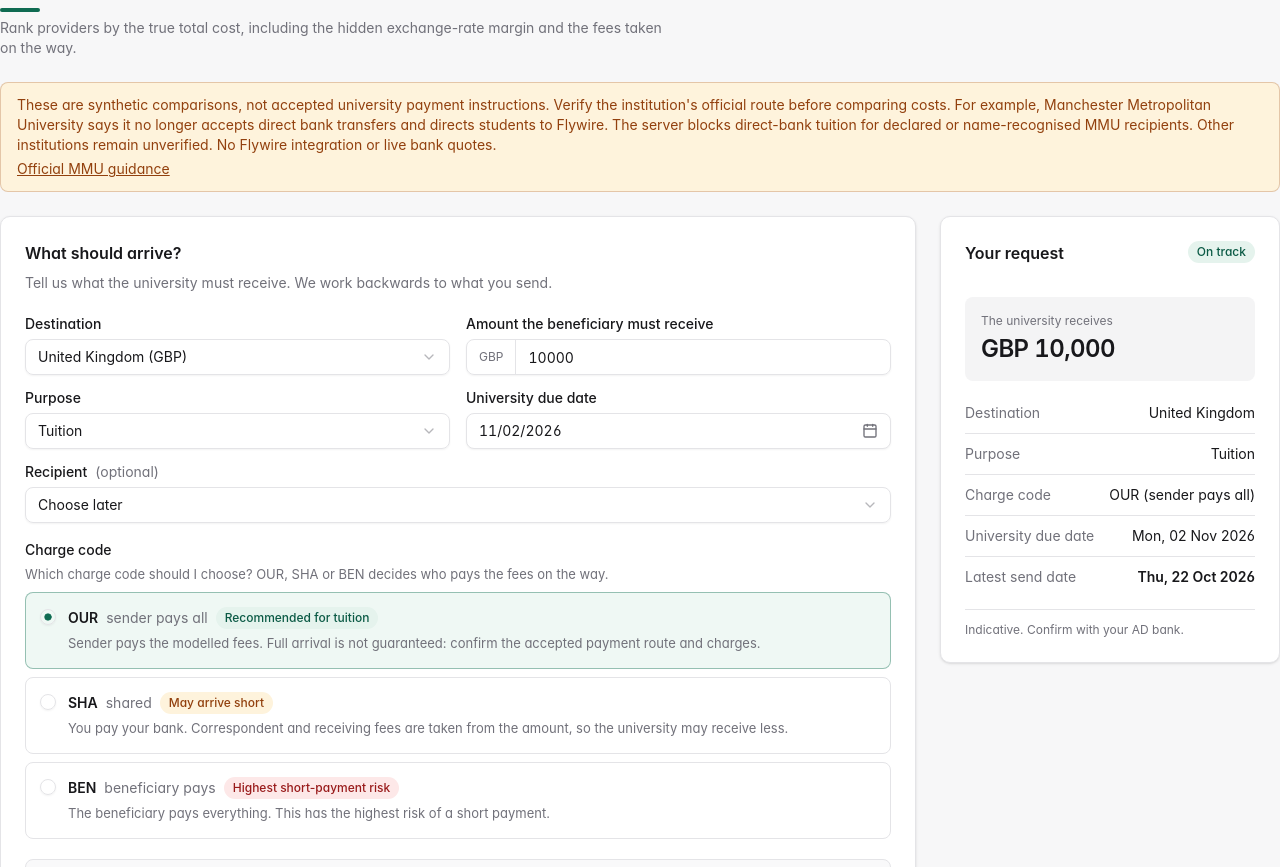
Test: compare screen: the request › chooses the charge code with the cards and sends it
Click the radio button named "BEN" in the row of "Highest short-payment risk". click: (48, 787)
box: x1=40 y1=779 x2=56 y2=795
(page scrolled)
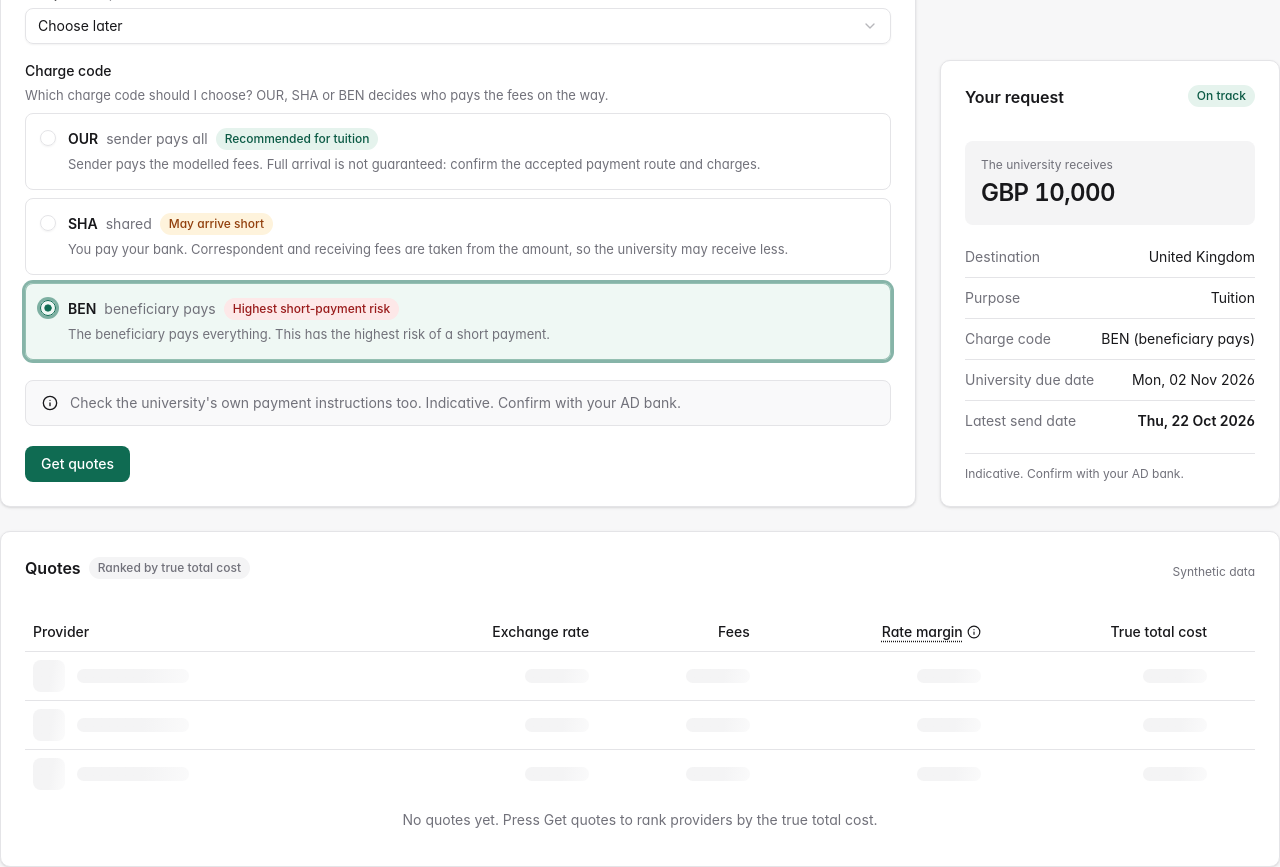
Click the button "Get quotes". click: (78, 464)
box: x1=25 y1=446 x2=130 y2=482
(page scrolled)
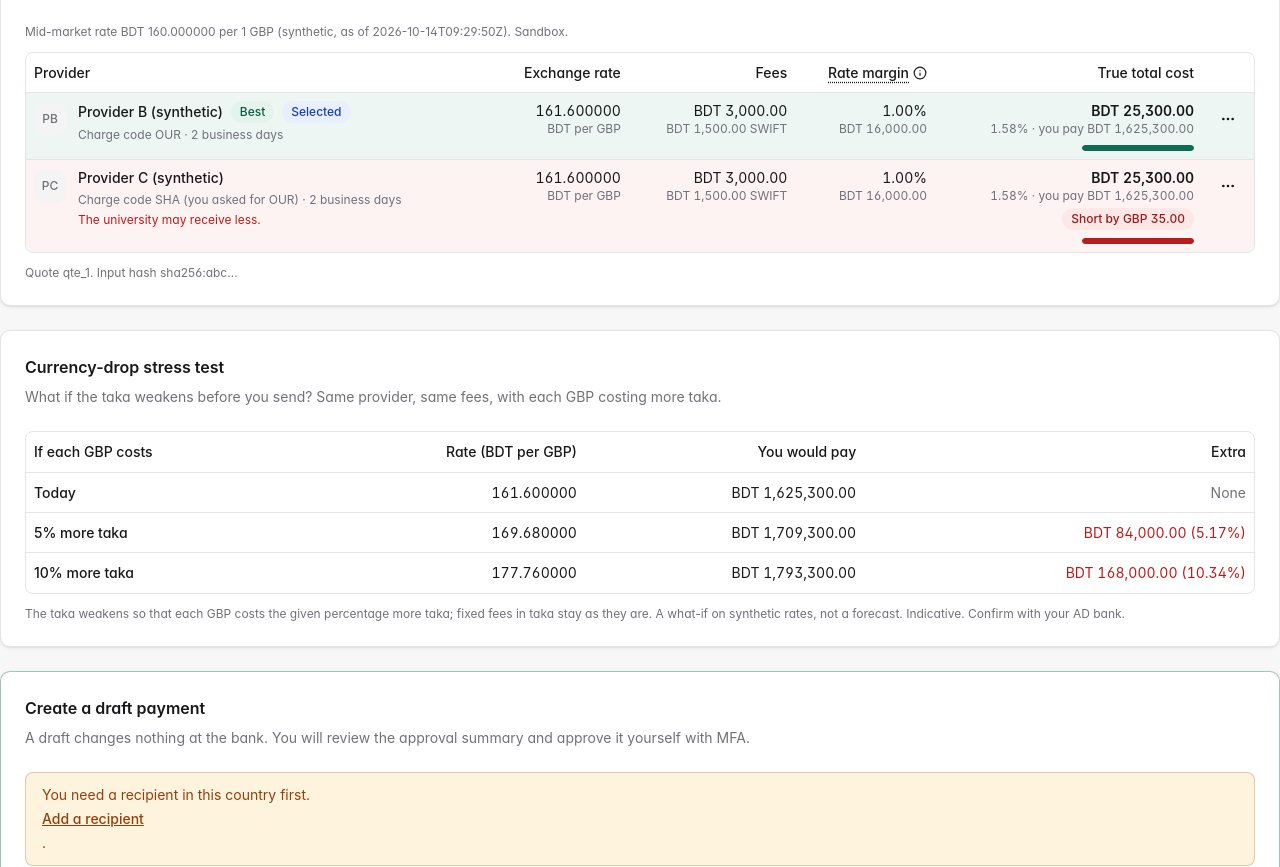
Check: the element named "Provider comparison table" is shown, box x1=25 y1=52 x2=1255 y2=253
